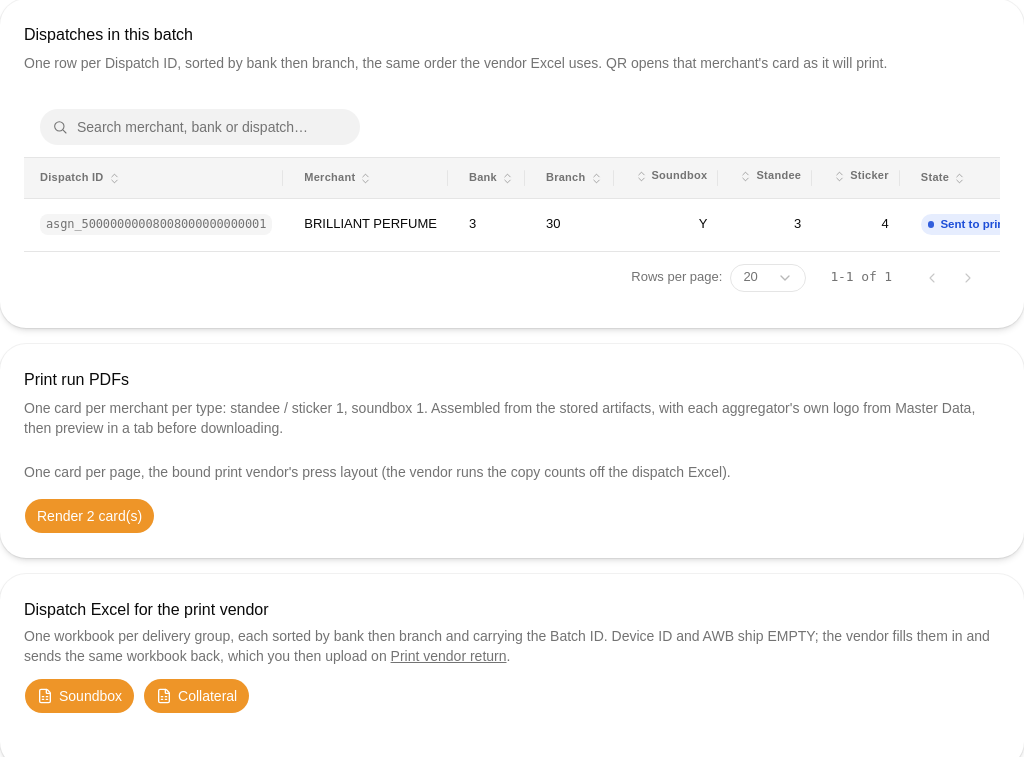
Test case: The print run is assembled server-side from the stored artifacts › Render fetches the server group PDFs instead of drawing cards client-side
This screenshot has width=1036, height=757.
(page scrolled)
Click the button "Render 2 card(s)": (90, 516) left=24, top=498, right=155, bottom=534
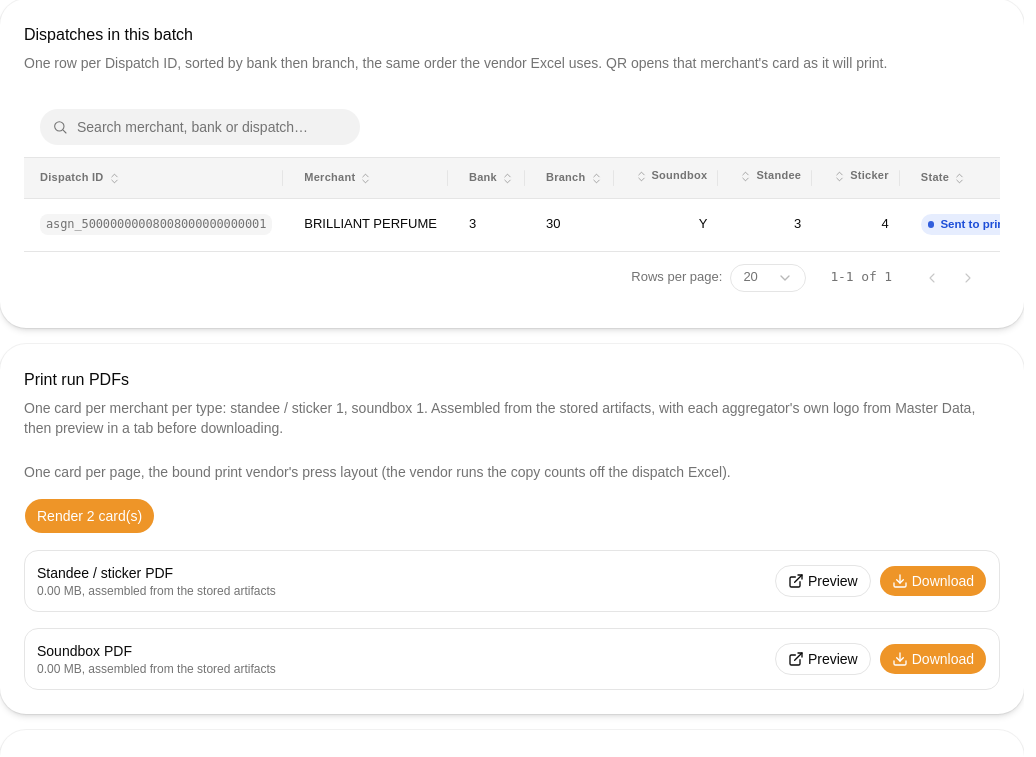
Result: the text "Standee / sticker PDF" is shown at left=37, top=564, right=173, bottom=580
Result: the text "Soundbox PDF" is shown at left=37, top=642, right=132, bottom=658
